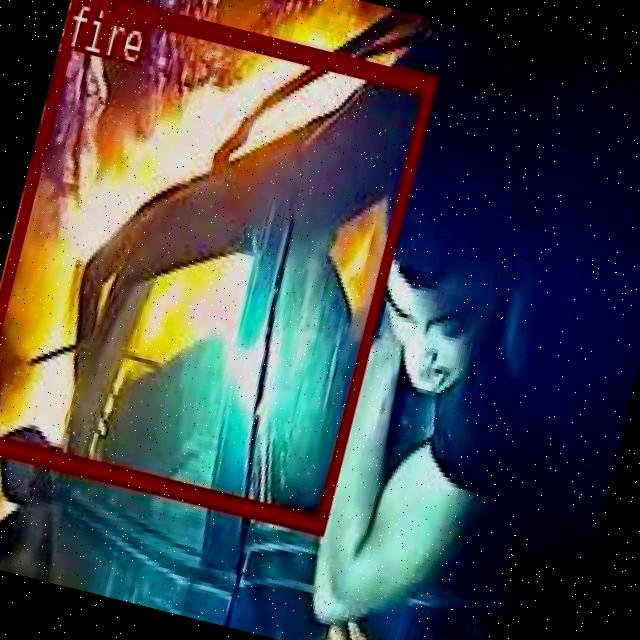fire: (0, 0, 434, 529)
